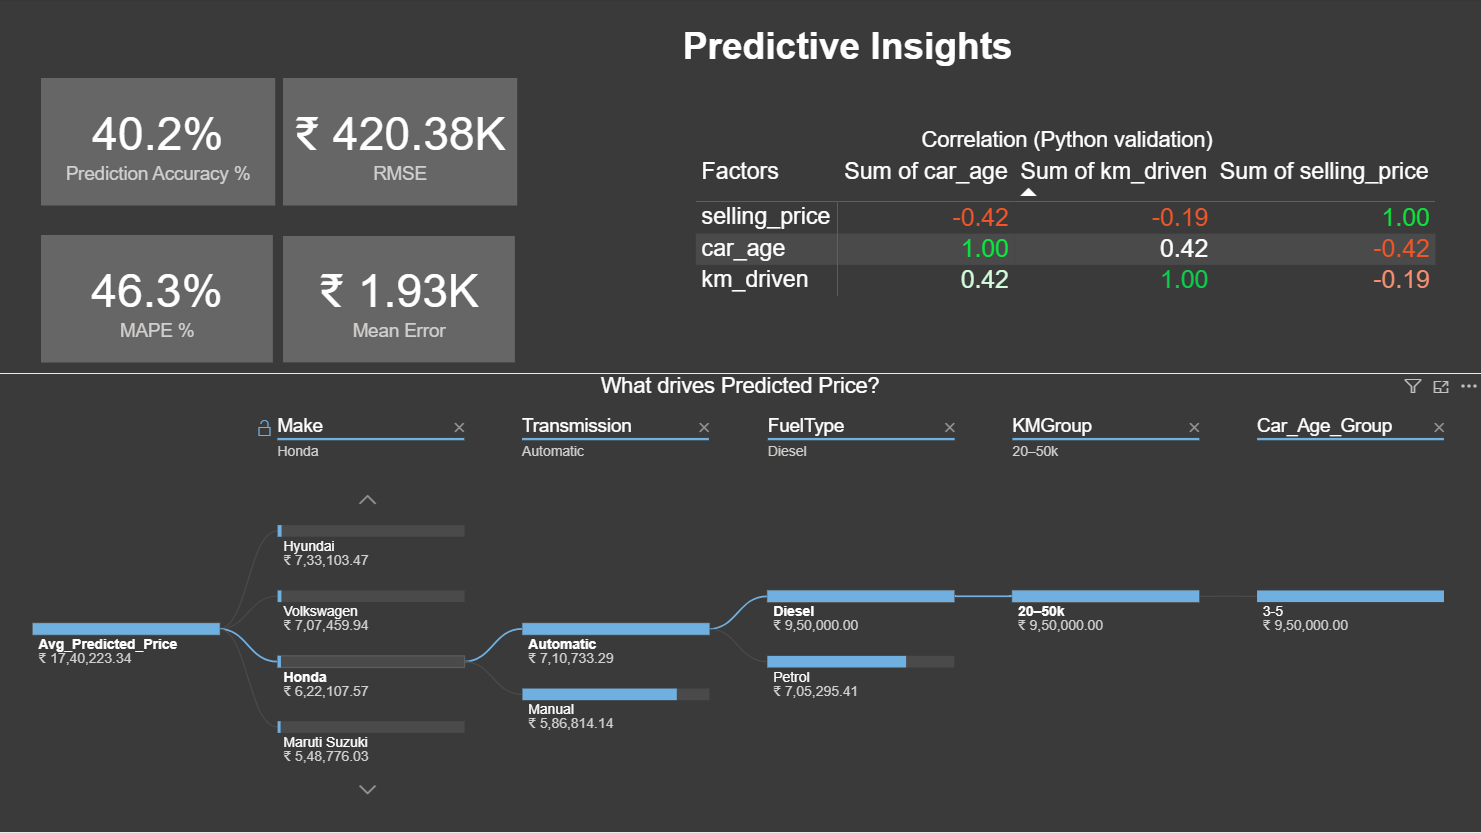

This screenshot's page, from the dashboard's own definition file:
{"tool":"powerbi","page":{"name":"Predictive insights","canvas":[1280,720],"ordinal":3},"visuals":[{"type":"decompositionTreeVisual","title":"What drives Predicted Price?","fields":{"ExplainBy":["Fact_Cars.Make","Fact_Cars.Transmission","Dim_Fuel.FuelType","Fact_Cars.KMGroup","Dim_Age.Car_Age_Group"],"Analyze":["Avg(Fact_Cars.Price)"]},"box":[0,323.8,1280.3,396.6],"z":0},{"type":"textbox","box":[585.9,19.2,310.1,49.4],"z":1000},{"type":"card","fields":{"Values":["Measures (2).Prediction Accuracy %"]},"box":[37,68.6,201.7,109.8],"z":2000},{"type":"card","fields":{"Values":["model_predictions.MP MAPE"]},"box":[37,204.5,200.3,109.8],"z":3000},{"type":"card","fields":{"Values":["model_predictions.MP RMSE"]},"box":[245.8,69,201.8,109.5],"z":4000},{"type":"card","fields":{"Values":["Measures (2).Prediction Error"]},"box":[245.8,205.3,200.1,108.7],"z":5000},{"type":"pivotTable","title":"Correlation (Python validation)","fields":{"Rows":["correlation_matrix.Factors"],"Columns":["correlation_matrix.Factors"],"Values":["Sum(correlation_matrix.car_age)","Sum(correlation_matrix.km_driven)","Sum(correlation_matrix.selling_price)"]},"box":[596.9,111.1,650.4,161.9],"z":6000}]}

Visuals, with their boxes in screenshot pixels (x1, y1, x2, y2), scaled from the page's 1280x720 canvas onto the 1481x833 screenshot:
"What drives Predicted Price?" decompositionTreeVisual: x1=0, y1=375, x2=1480, y2=832
textbox: x1=678, y1=22, x2=1037, y2=79
card - Measures (2).Prediction Accuracy %: x1=43, y1=79, x2=276, y2=206
card - model_predictions.MP MAPE: x1=43, y1=237, x2=275, y2=364
card - model_predictions.MP RMSE: x1=284, y1=80, x2=518, y2=207
card - Measures (2).Prediction Error: x1=284, y1=238, x2=516, y2=363
"Correlation (Python validation)" pivotTable: x1=691, y1=129, x2=1443, y2=316
